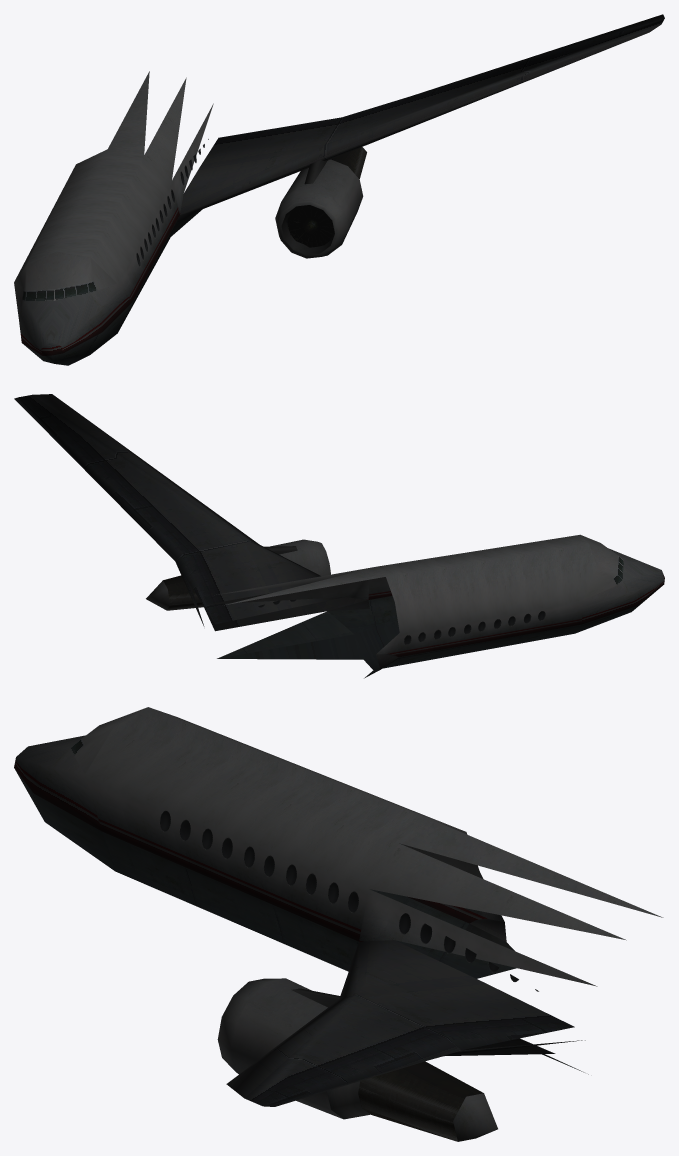
Rendered from cell_21_-22.gltf.
The picture shows the model from 3 angles, top to bottom: view 1: azimuth 30°, elevation 25°; view 2: azimuth 150°, elevation 25°; view 3: azimuth 270°, elevation 25°; orthographic projection. The views are drawn at different scales.
Visible parts, largest first — view 1: cell_21_-22; view 2: cell_21_-22; view 3: cell_21_-22.
Part boxes in pixels (<box>): cell_21_-22: <box>14,14,664,365</box>; cell_21_-22: <box>14,394,664,678</box>; cell_21_-22: <box>14,707,663,1141</box>.
Bounding box in the file's own units: 65.57 × 14.42 × 35.43.
Materials: 3 (3 with a texture image).
